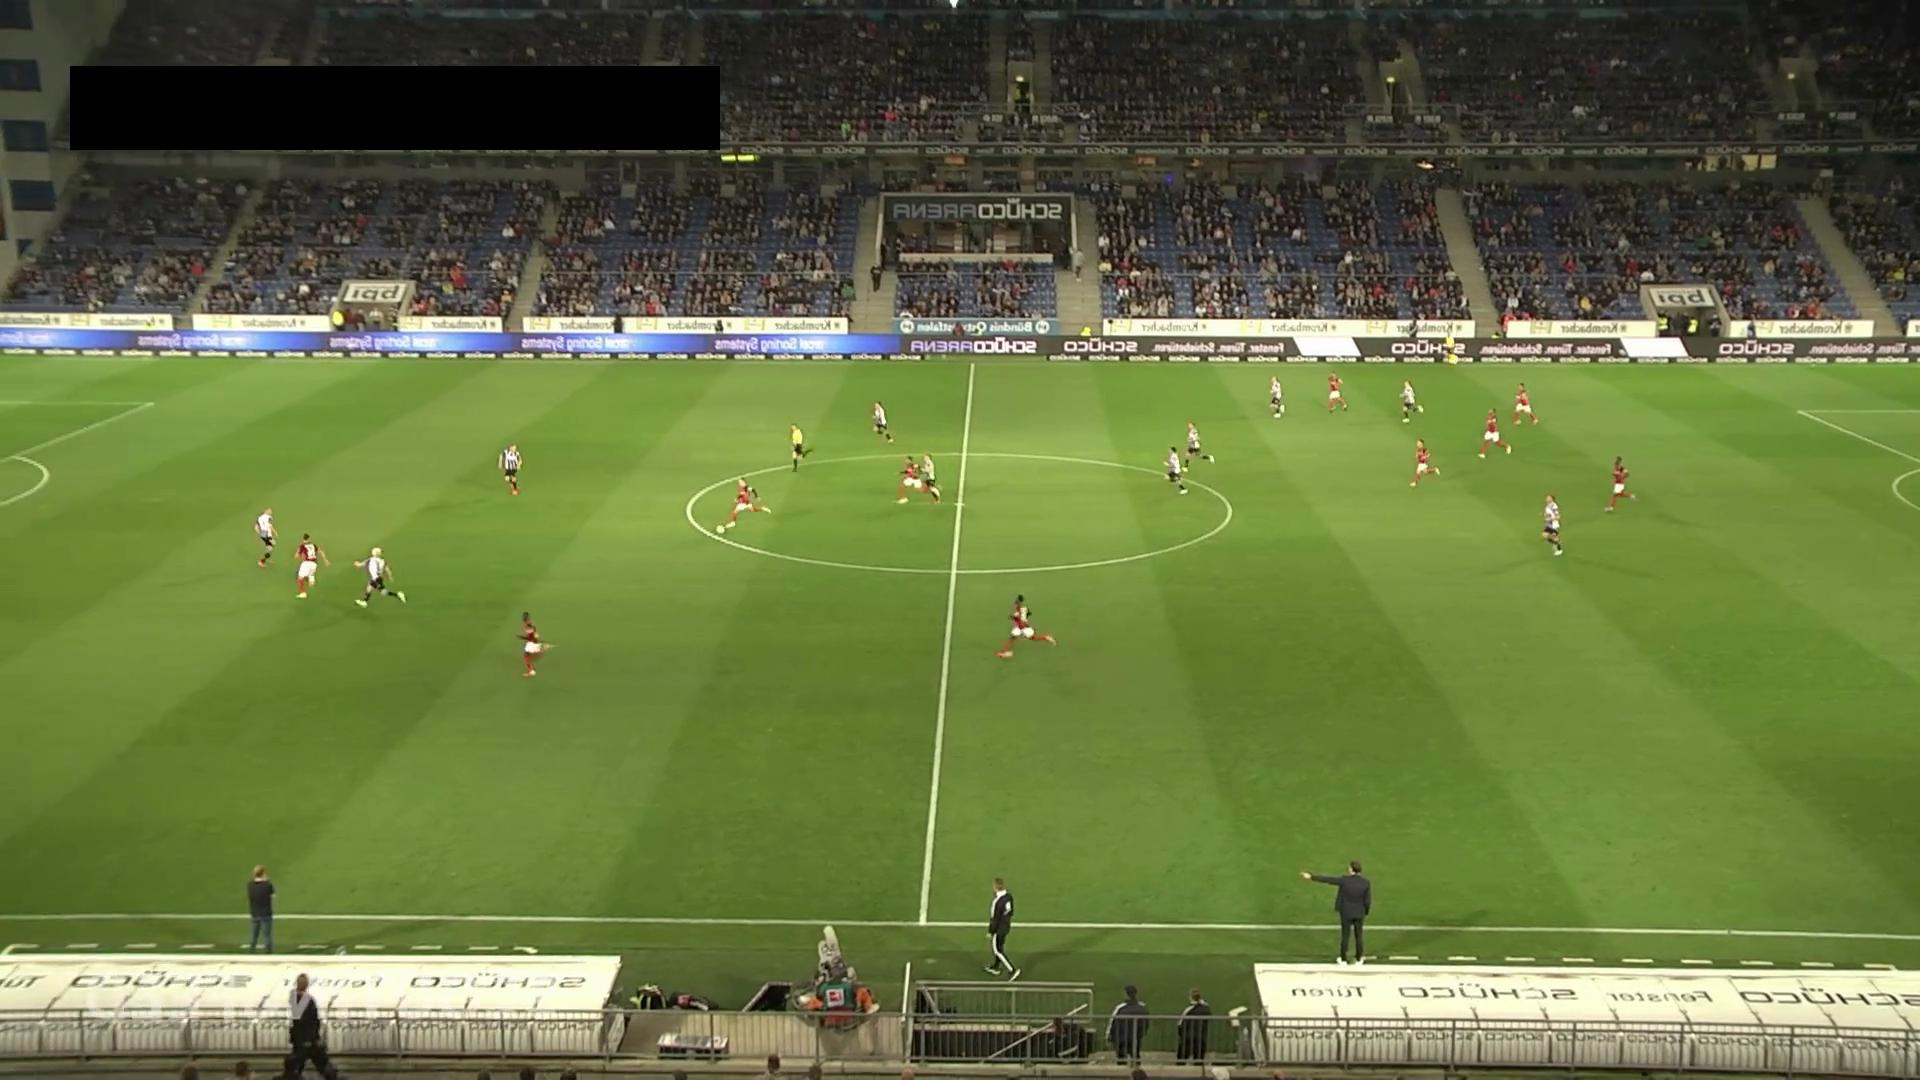ball: (716, 524, 726, 534)
player: (994, 593, 1057, 660), (352, 546, 407, 607), (515, 611, 556, 678), (294, 531, 332, 599), (894, 455, 940, 507), (725, 477, 771, 529), (1477, 408, 1512, 459), (1604, 456, 1635, 512), (1409, 438, 1441, 487), (1186, 421, 1217, 469), (255, 505, 278, 567), (914, 452, 941, 504), (1542, 494, 1564, 556), (1164, 445, 1188, 498), (499, 444, 522, 496), (1512, 382, 1539, 426), (872, 399, 894, 443), (1327, 373, 1348, 414), (1399, 379, 1419, 422), (1269, 375, 1283, 417)
referee: (789, 422, 814, 472), (1440, 325, 1459, 367)
